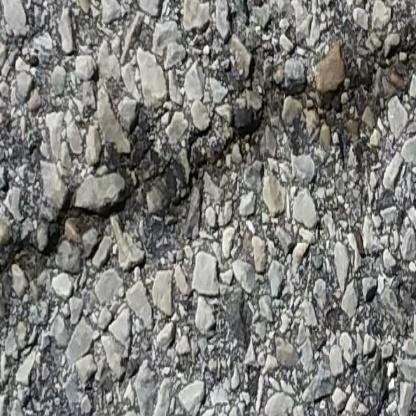Cracks: (0, 22, 416, 314)
